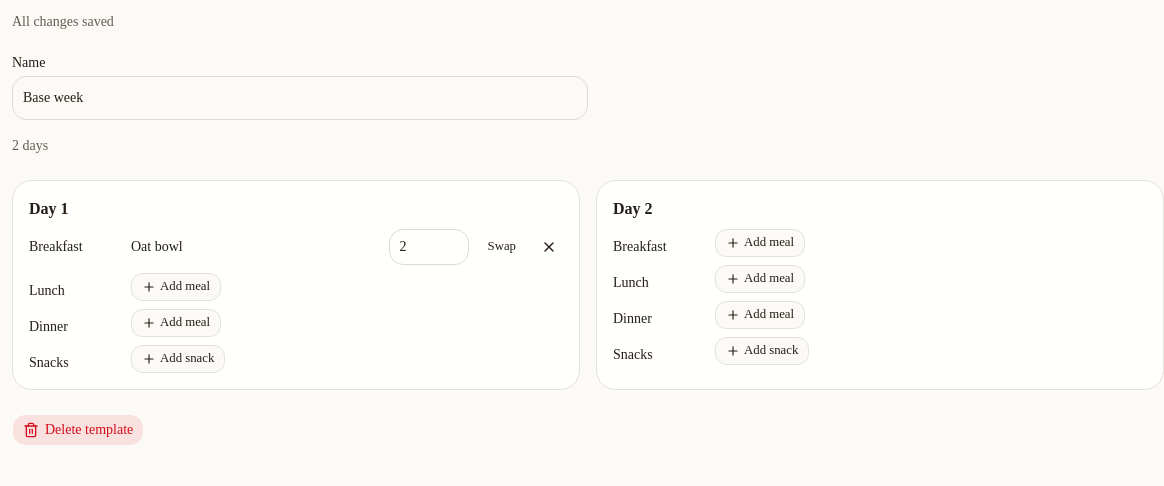
Scenario: TemplateEditor › explains a refusal from the server, keeps the draft, and does not retry by itself
The width and height of the screenshot is (1164, 486).
Replace the text in the field named "Portion of breakfast on day 1" with "3" at {"x": 429, "y": 247}, box [389,229,469,265]
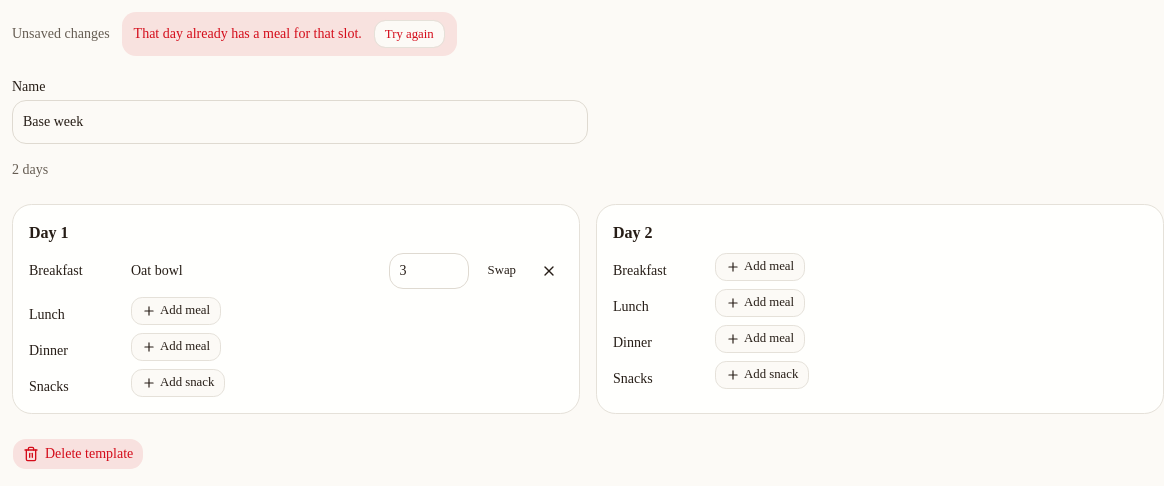
Check: the text "That day already has a meal for that slot." is shown, box [134,24,362,44]
